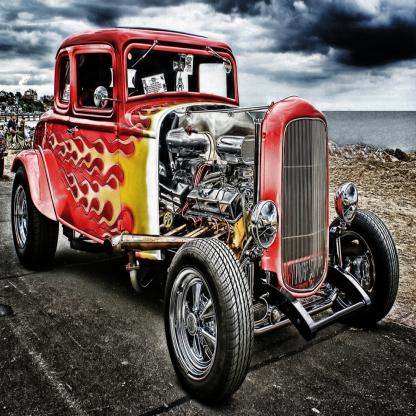Car: (11, 26, 399, 406), (0, 130, 8, 178)
